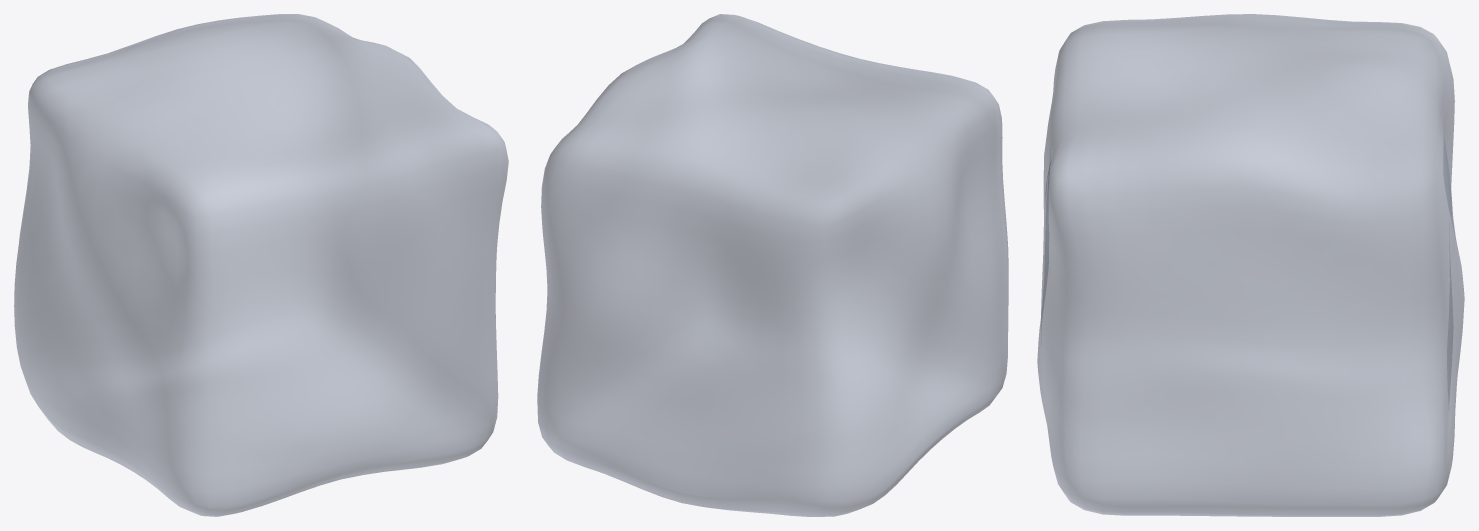
The model's file is ice-origin-center.glb.
The picture shows the model from 3 angles, left to right: view 1: azimuth 30°, elevation 25°; view 2: azimuth 150°, elevation 25°; view 3: azimuth 270°, elevation 25°; orthographic projection. The views are drawn at different scales.
Visible parts, largest first — view 1: pCube1; view 2: pCube1; view 3: pCube1.
Part boxes in pixels (left/top/right/bottom): pCube1: left=14, top=14, right=508, bottom=516; pCube1: left=537, top=14, right=1008, bottom=516; pCube1: left=1037, top=14, right=1464, bottom=516.
Size of the model in its own units: 0.00214 by 0.00215 by 0.00215.
